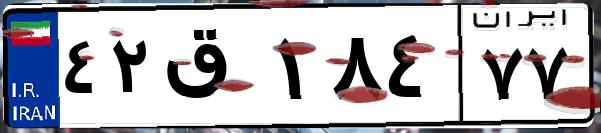1: (270, 28, 330, 110)
2: (110, 28, 158, 98)
4: (385, 28, 445, 110), (57, 26, 110, 100)
7: (475, 38, 525, 113), (525, 38, 570, 115)
8: (330, 28, 385, 110)
ق: (158, 20, 270, 120)
